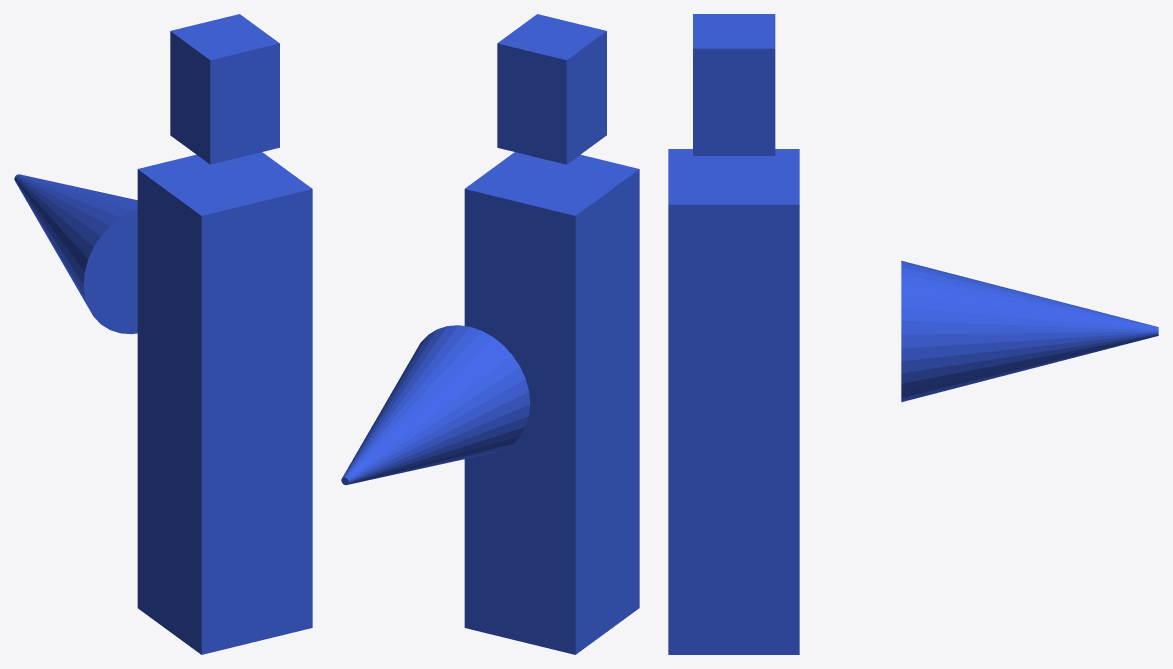
Rendered from pawn.glb.
3 views of the same model, side by side, from view 1: azimuth 30°, elevation 25°; view 2: azimuth 150°, elevation 25°; view 3: azimuth 270°, elevation 25° (orthographic). The views are drawn at different scales.
Parts seen in each view (by area): view 1: pawn; view 2: pawn; view 3: pawn.
Boxes of the visible parts, x1,y1,x2,y2 form: pawn: (14,14,312,654); pawn: (341,14,639,654); pawn: (668,14,1158,654).
Bounding box in the file's own units: 0.2853 × 1.32 × 0.9872.
